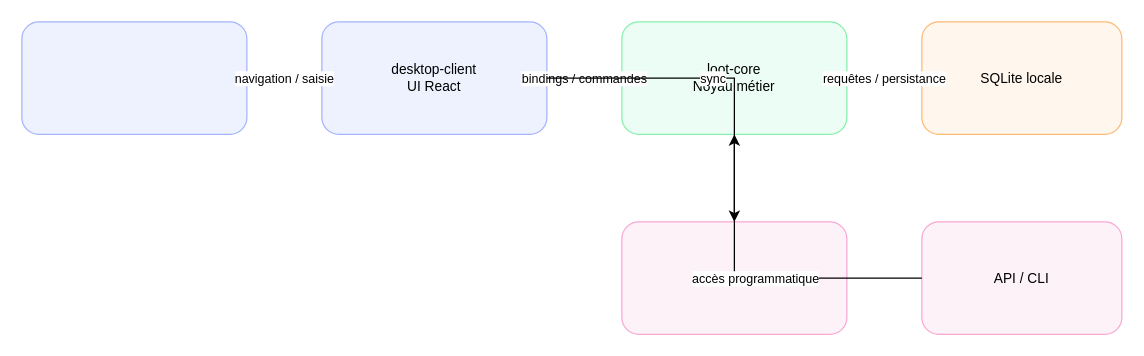
This 1144x356 diagram has some shape labels left out. The centre of each missing label's shape, as x and y in pixels:
"Clients Web / Desktop / Mobile" belongs at [134,77].
"sync-server optionnel" belongs at [734,277].
